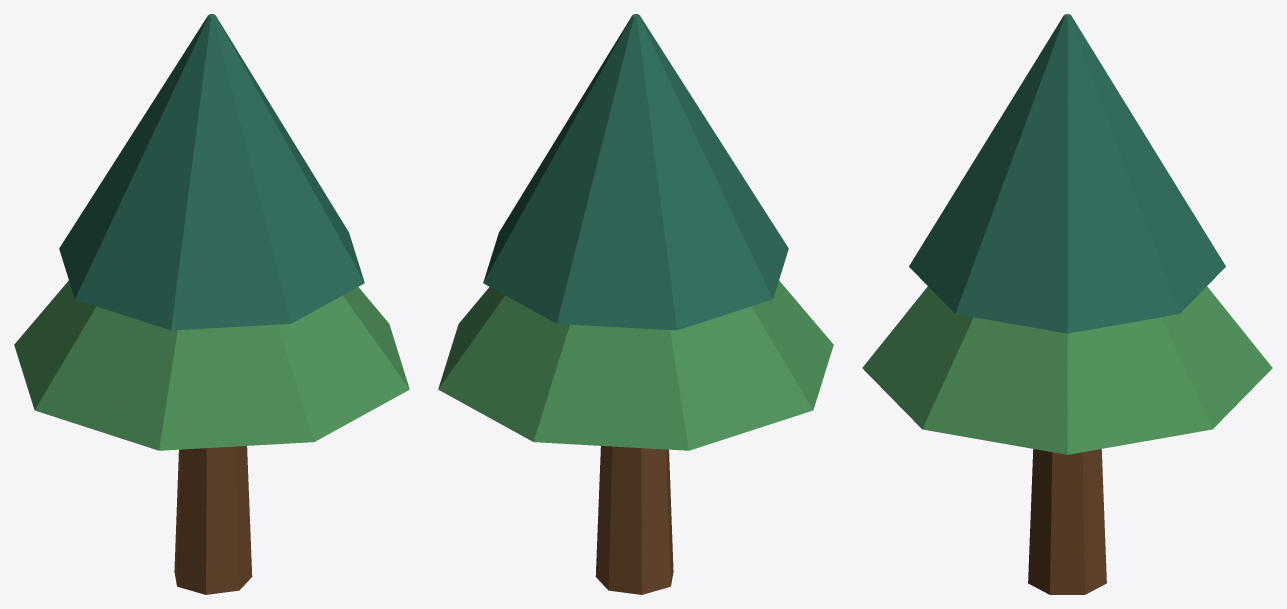
Rendered from innerscene-conical-pine.glb.
3 renders of one model, left to right at view 1: azimuth 30°, elevation 25°; view 2: azimuth 150°, elevation 25°; view 3: azimuth 270°, elevation 25°, orthographic.
Parts seen in each view (by area): view 1: Tiered evergreen crown 003, Tiered evergreen crown 002, Faceted trunk 001; view 2: Tiered evergreen crown 003, Tiered evergreen crown 002, Faceted trunk 001; view 3: Tiered evergreen crown 003, Tiered evergreen crown 002, Faceted trunk 001.
Boxes of the visible parts, x1,y1,x2,y2 form: Tiered evergreen crown 003: [59, 14, 364, 330]; Tiered evergreen crown 002: [14, 280, 409, 450]; Faceted trunk 001: [174, 446, 252, 594]; Tiered evergreen crown 003: [483, 14, 788, 330]; Tiered evergreen crown 002: [438, 280, 833, 450]; Faceted trunk 001: [595, 446, 673, 594]; Tiered evergreen crown 003: [909, 14, 1225, 333]; Tiered evergreen crown 002: [862, 286, 1272, 454]; Faceted trunk 001: [1028, 449, 1106, 594].
Bounding box in the file's own units: 2.64 × 4 × 2.64.
Materials: 3 (3 with a texture image).
